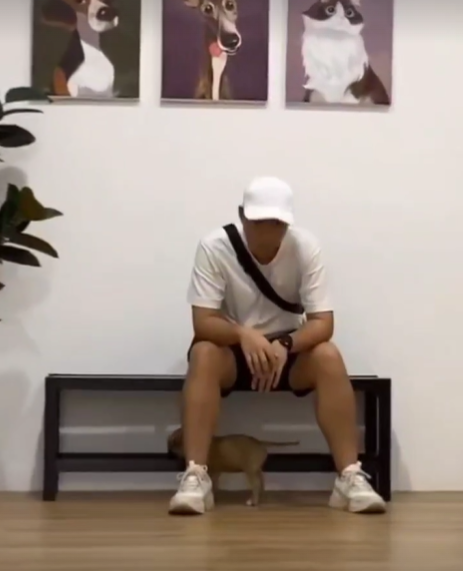sit: (141, 131, 395, 530)
